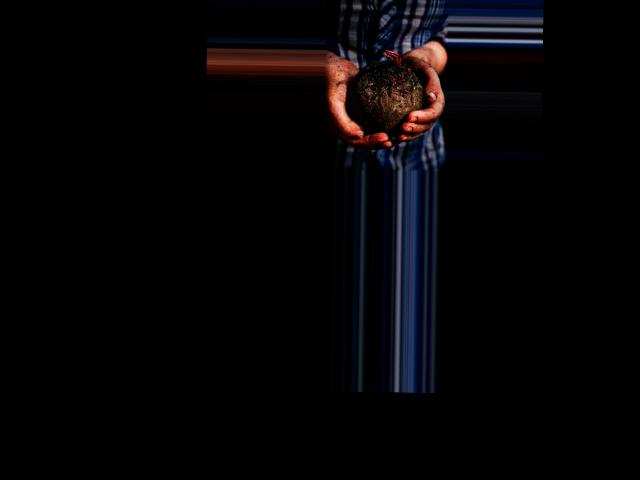beet: (347, 48, 424, 134)
